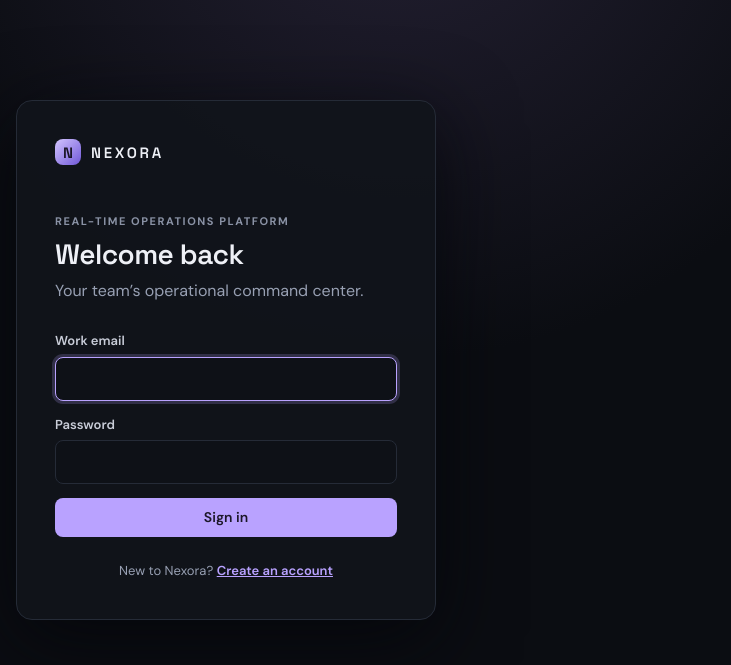
Test: LoginPage › shows a network error when the API is unreachable
Type "alex@example.test" into the field labelled "Work email".
click(226, 379); type("alex@example.test")  # box x1=55 y1=357 x2=397 y2=401
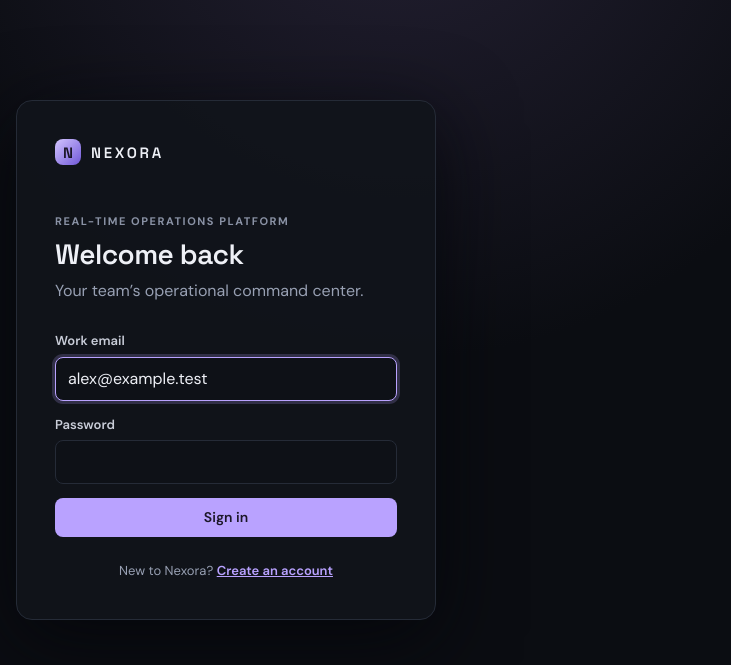
Type "pw" into the password field labelled "Password".
click(226, 462); type("pw")  # box x1=55 y1=440 x2=397 y2=484
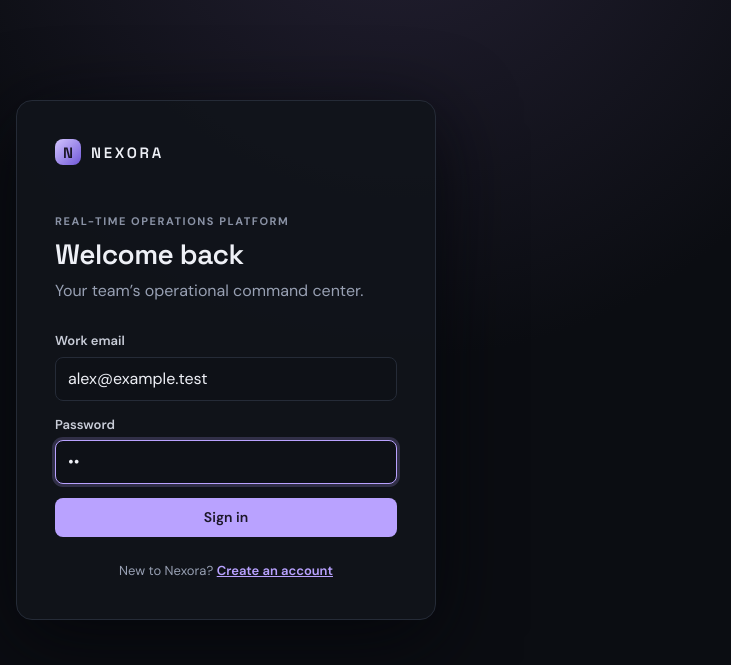
Click the button "Sign in".
click(226, 518)  # box x1=55 y1=498 x2=397 y2=537
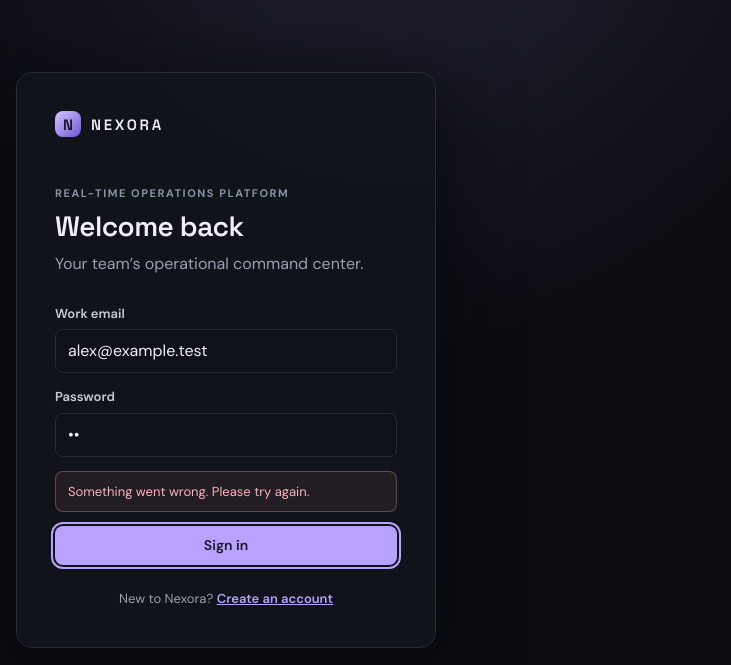
Expected: the message shows "Something went wrong", x1=68 y1=482 x2=309 y2=500
